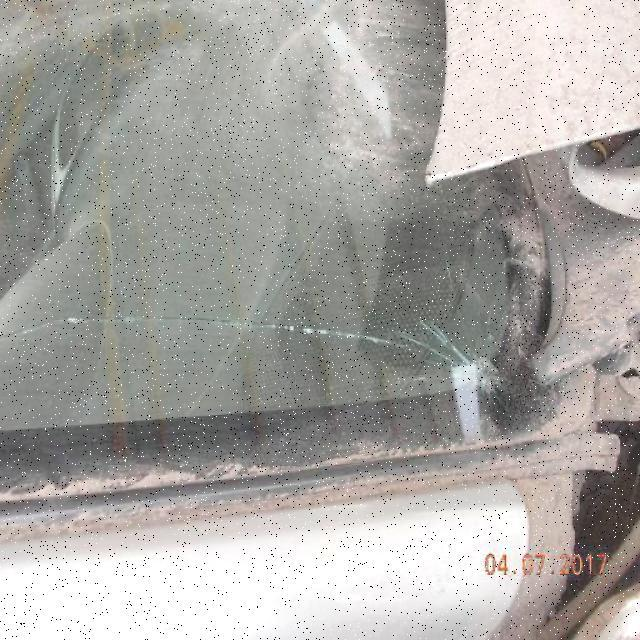car damage: (436, 326, 513, 399)
